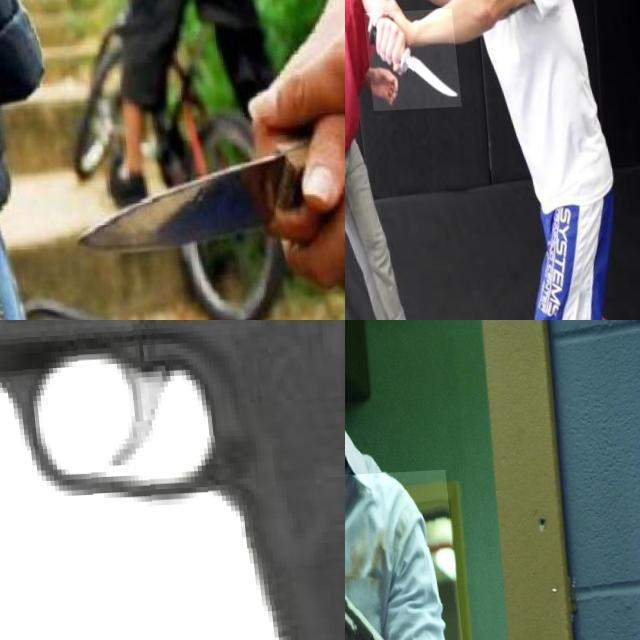-: (0, 0, 90, 320), (358, 12, 454, 114)
gun-knife-thesis - v11 Yolov5 augmented: (0, 320, 345, 640), (345, 473, 489, 640)
